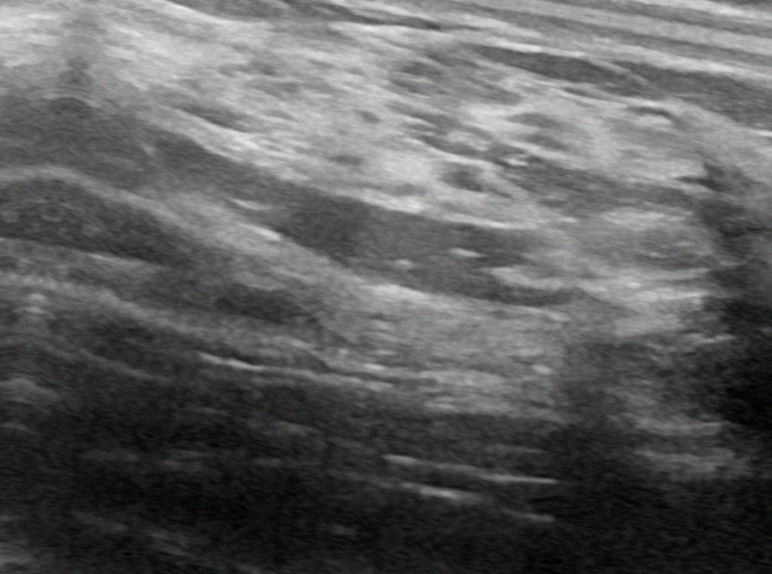Normal: (3, 7, 772, 535)
